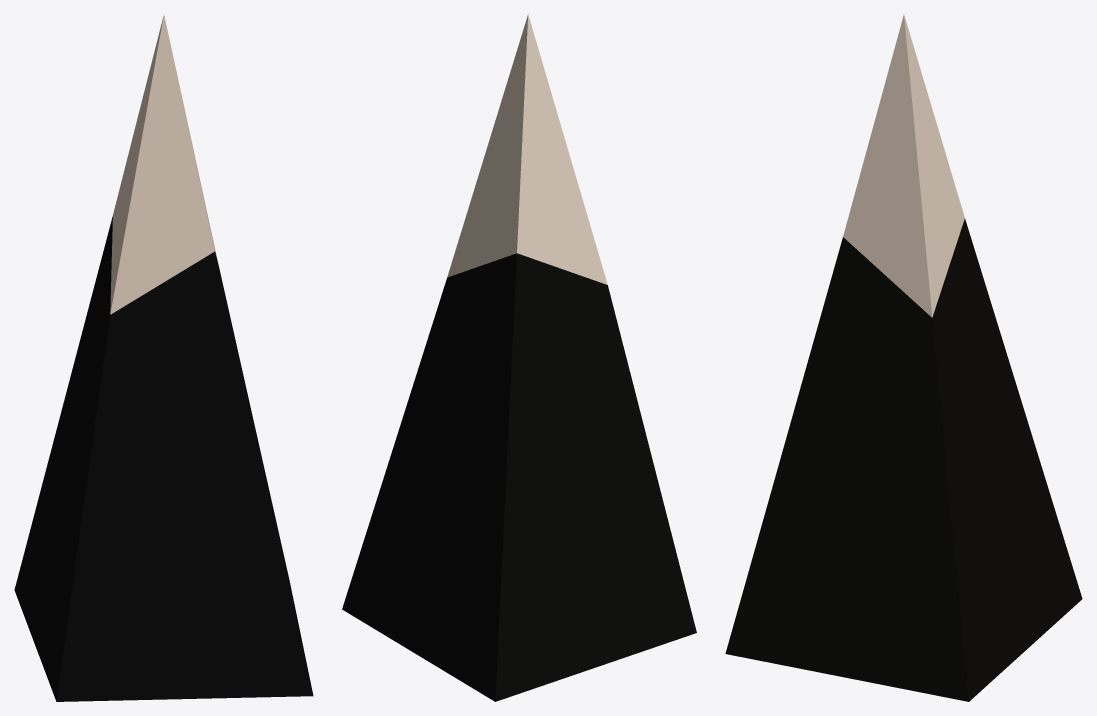
File: mountain_2.FBX
3 views of the same model, side by side, from view 1: azimuth 30°, elevation 25°; view 2: azimuth 150°, elevation 25°; view 3: azimuth 270°, elevation 25° (orthographic). The views are drawn at different scales.
Visible parts, largest first — view 1: mountain_2; view 2: mountain_2; view 3: mountain_2.
Boxes of the visible parts, x1,y1,x2,y2 form: mountain_2: (14, 15, 313, 701); mountain_2: (342, 14, 696, 701); mountain_2: (725, 15, 1082, 701).
Size of the model in its own units: 154 by 309 by 163.
